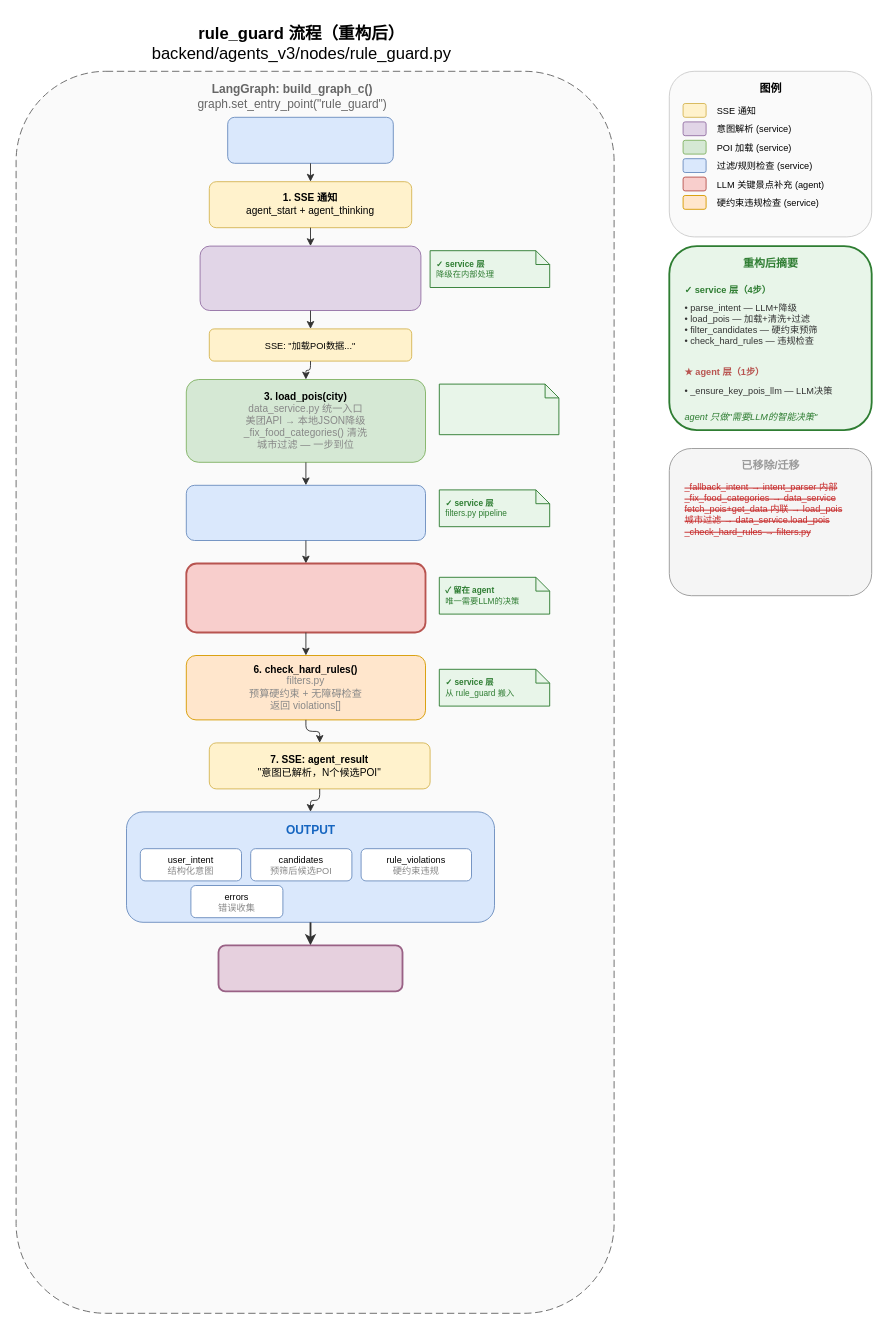
The diagram is 892 pixels wide and 1329 high, and some of its shapes have lost their labels. Here are the shapes that lost their labels. From the top down, the centre of each, then its label:
point (310, 139): INPUT TravelState
point (310, 277): 2. parse_intent() intent_parser.py LLM解析 + 内置降级 agent 不感知降级细节
point (498, 409): ✓ service 层 数据清洗+加载统一 agent 只说城市名
point (305, 512): 4. filter_candidates() filters.py 位置/时间窗/排队/无障碍/宠物/预算
point (305, 597): 5. _ensure_key_pois_llm() agent 核心智能 LLM决策哪些景点必须包含 降级: _fallback_must_have 关键词匹配
point (310, 968): expert_router LangGraph 下一节点
